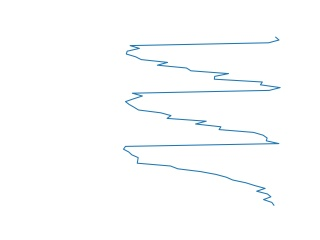distributaryMouthBar: (122, 36, 284, 207)
